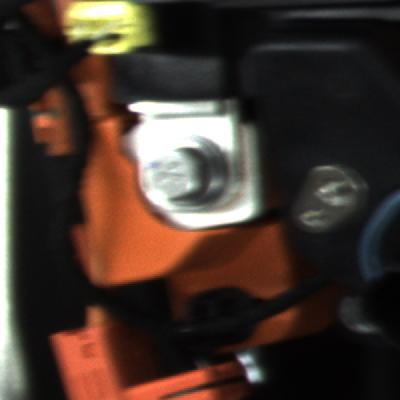nut_b: (136, 135, 237, 212)
